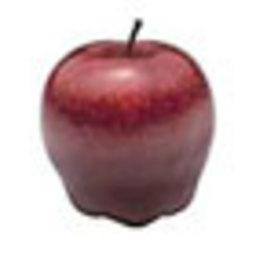apple: (41, 34, 217, 226)
